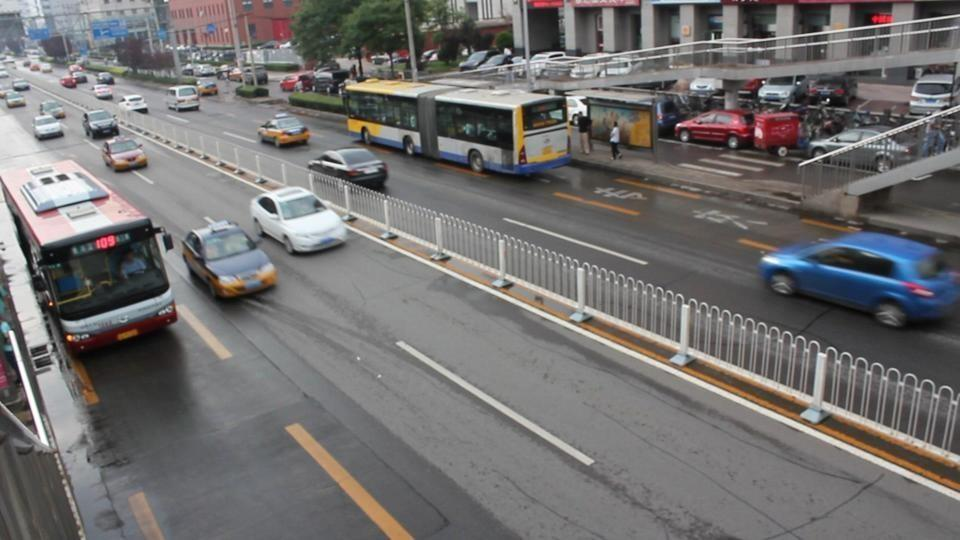car: (757, 231, 958, 330), (180, 216, 278, 301), (249, 185, 349, 255), (807, 130, 914, 173), (307, 147, 389, 191), (674, 109, 755, 149), (909, 63, 960, 115), (742, 75, 807, 110), (256, 111, 311, 149), (99, 135, 148, 172), (792, 76, 850, 107), (516, 52, 579, 78), (81, 108, 120, 140), (458, 50, 511, 73), (164, 84, 201, 112), (33, 114, 66, 141)
